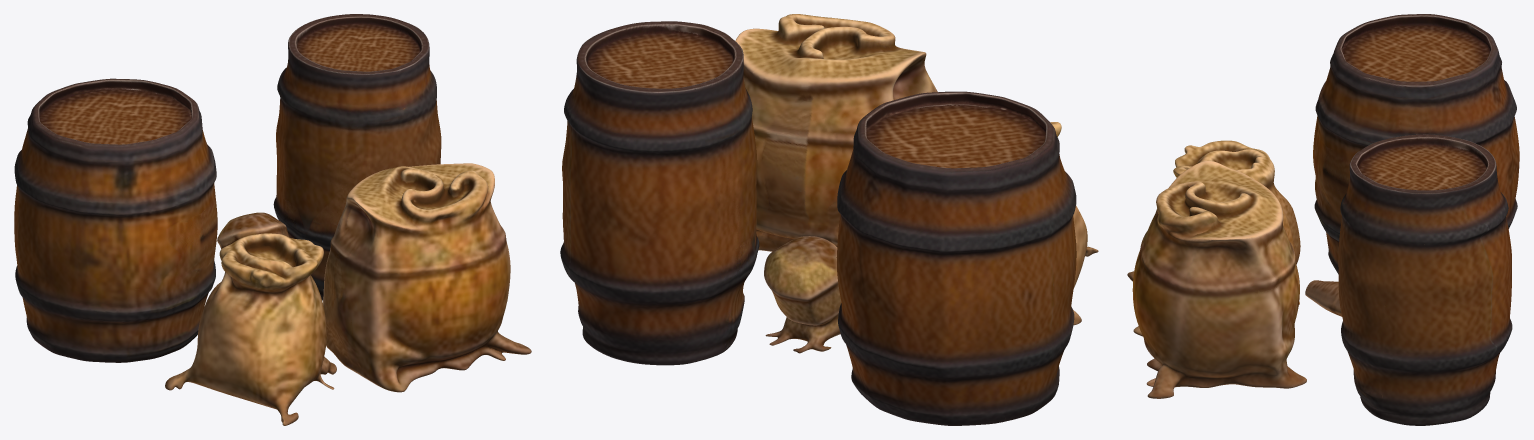
File: item_ambiente_md_3.glb
3 renders of one model, left to right at view 1: azimuth 30°, elevation 25°; view 2: azimuth 150°, elevation 25°; view 3: azimuth 270°, elevation 25°, orthographic. The views are drawn at different scales.
Size of the model in its own units: 1.9 by 1.05 by 1.59.
Materials: 1 (1 with a texture image).
